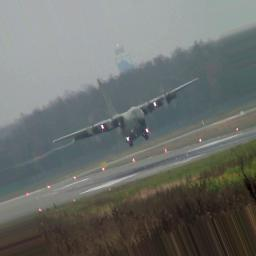Airplane: (50, 74, 200, 148)
